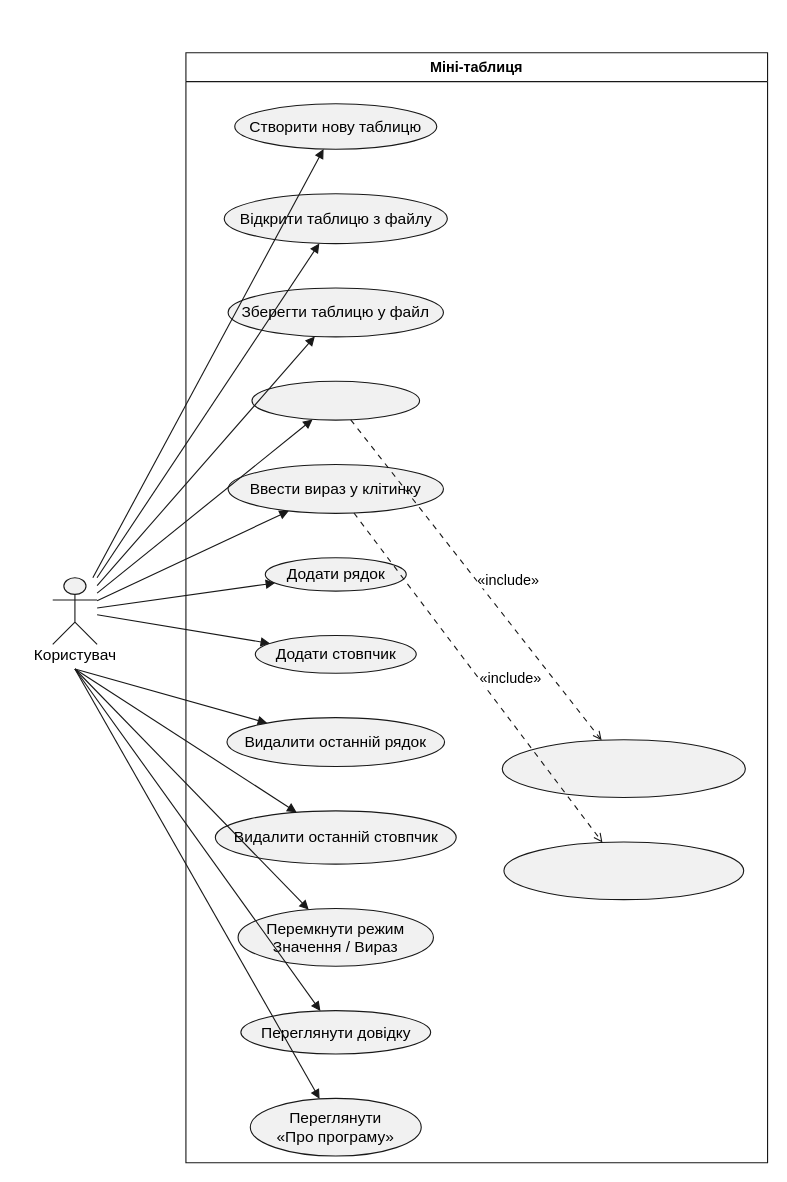
Image size: 787x1182. Some labels were removed from this diagram. The centre of each missing label's shape, as x and y in pixels:
Вибрати клітинку: point 335,400
Переглянути значення або помилку клітинки: point 623,768
Побачити підказку про синтаксис виразу: point 623,870
